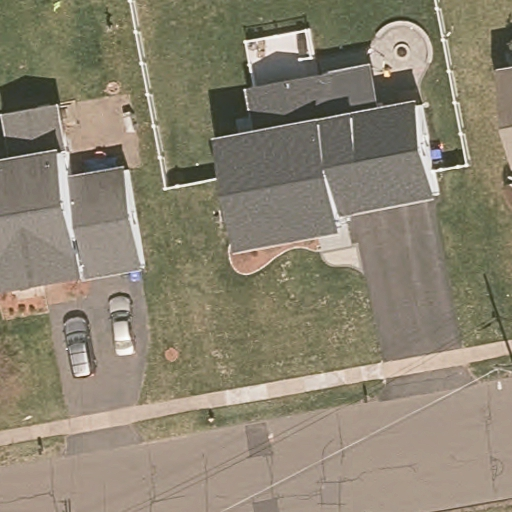DT: (493, 358, 512, 391)
